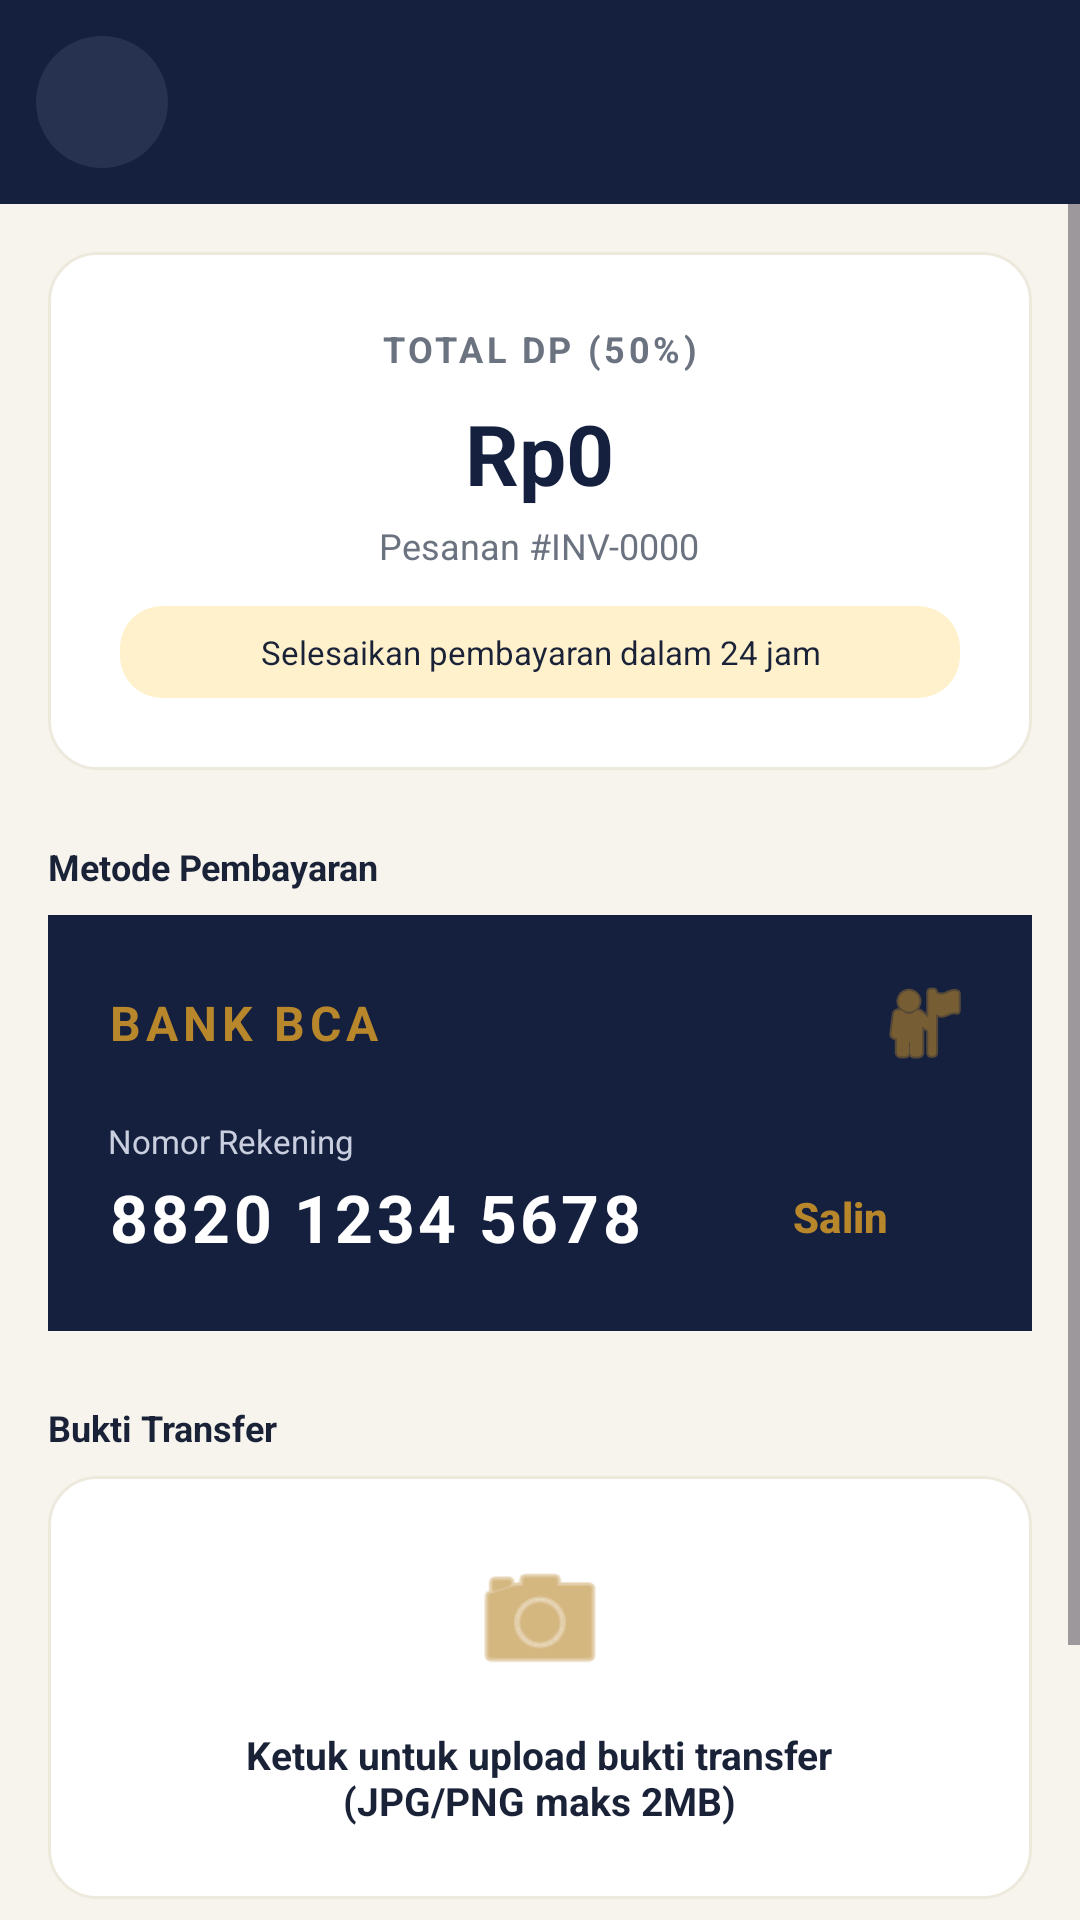

Screen size 1080px×1920px. Icon name, then its box in pixels as (x1, y1, x2, y2):
camera: (484, 1573, 596, 1662)
myplaces: (889, 987, 961, 1059)
